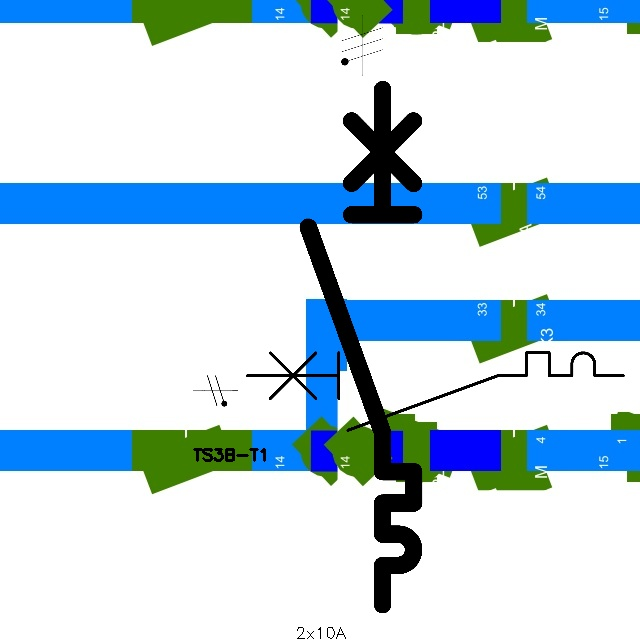interruptor_termomagnetico: (295, 76, 427, 618), (237, 343, 632, 440)
